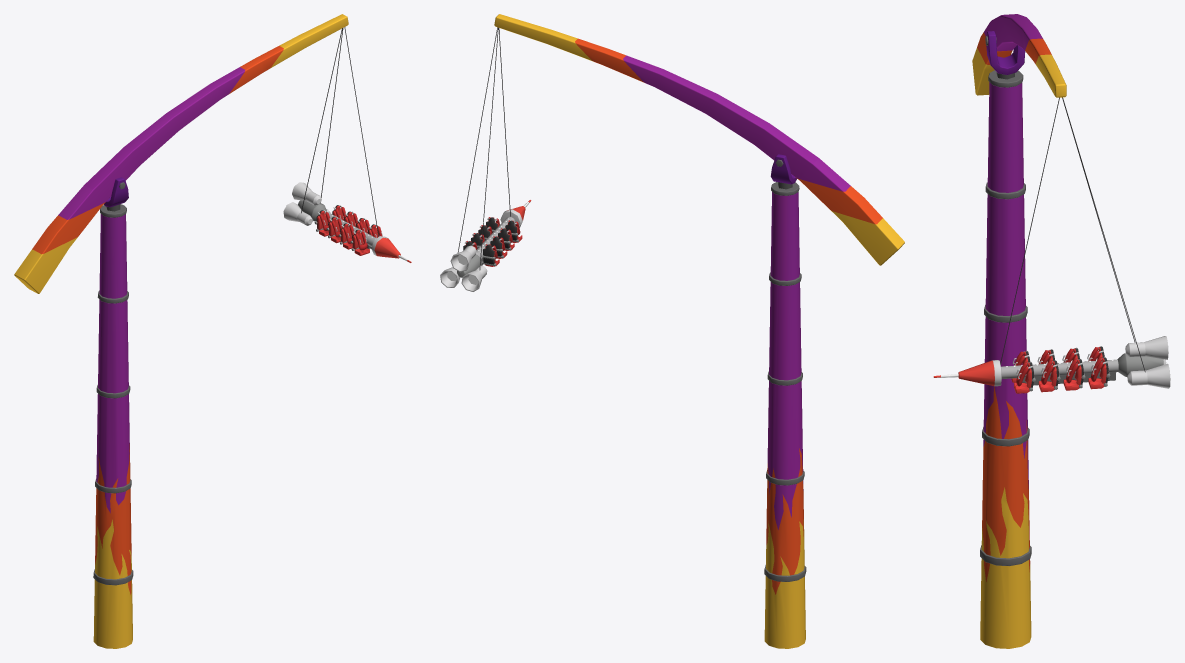
File: attraction_002.gltf
3 renders of one model, left to right at view 1: azimuth 30°, elevation 25°; view 2: azimuth 150°, elevation 25°; view 3: azimuth 270°, elevation 25°, orthographic. The views are drawn at different scales.
Visible parts, largest first — view 1: attraction_2_001, attraction_2_002, attraction_2_003; view 2: attraction_2_001, attraction_2_002, attraction_2_003; view 3: attraction_2_001, attraction_2_003, attraction_2_002.
Boxes of the visible parts, x1,y1,x2,y2 form: attraction_2_001: (93, 177, 133, 648); attraction_2_002: (14, 14, 348, 293); attraction_2_003: (283, 27, 411, 262); attraction_2_001: (764, 154, 806, 648); attraction_2_002: (494, 14, 904, 265); attraction_2_003: (440, 27, 531, 291); attraction_2_001: (980, 31, 1031, 648); attraction_2_003: (933, 97, 1170, 393); attraction_2_002: (972, 14, 1066, 97).
Size of the model in its own units: 34.97 by 48.25 by 14.52.
Materials: 2 (1 with a texture image).
